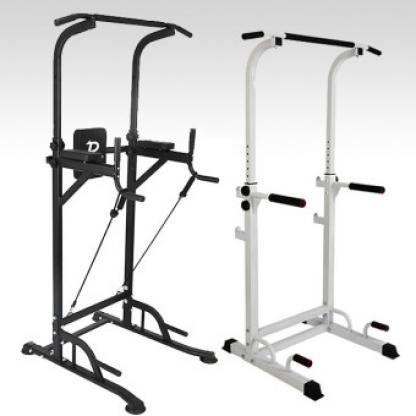chinning dipping: (22, 12, 217, 414), (222, 30, 400, 403)
